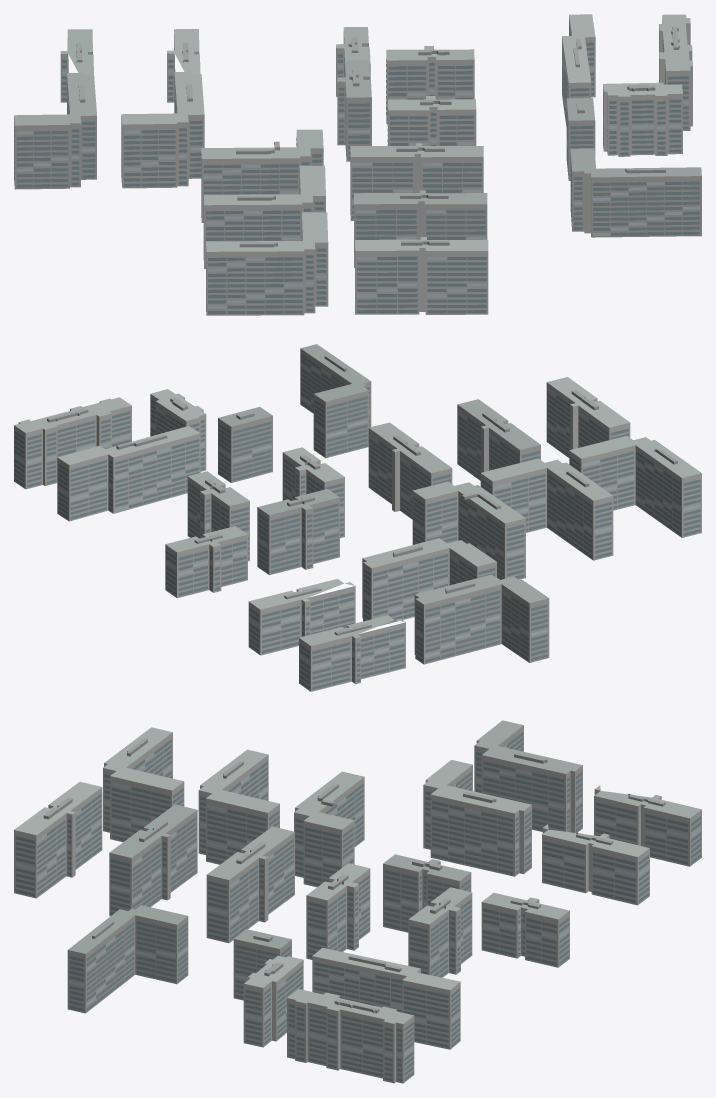
File: apt-a13176901.glb
3 renders of one model, top to bottom at view 1: azimuth 30°, elevation 25°; view 2: azimuth 150°, elevation 25°; view 3: azimuth 270°, elevation 25°, orthographic. The views are drawn at different scales.
Visible parts, largest first — view 1: apt-a13176901; view 2: apt-a13176901; view 3: apt-a13176901.
Boxes of the visible parts, <box> form: apt-a13176901: <box>14,14,701,315</box>; apt-a13176901: <box>14,344,701,691</box>; apt-a13176901: <box>14,720,701,1083</box>.
Bounding box in the file's own units: 330 × 34 × 320.
